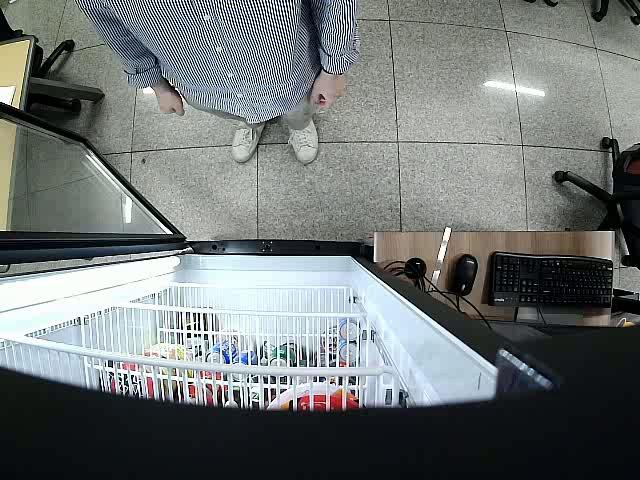00_hand: (309, 72, 346, 108), (153, 84, 188, 118)
